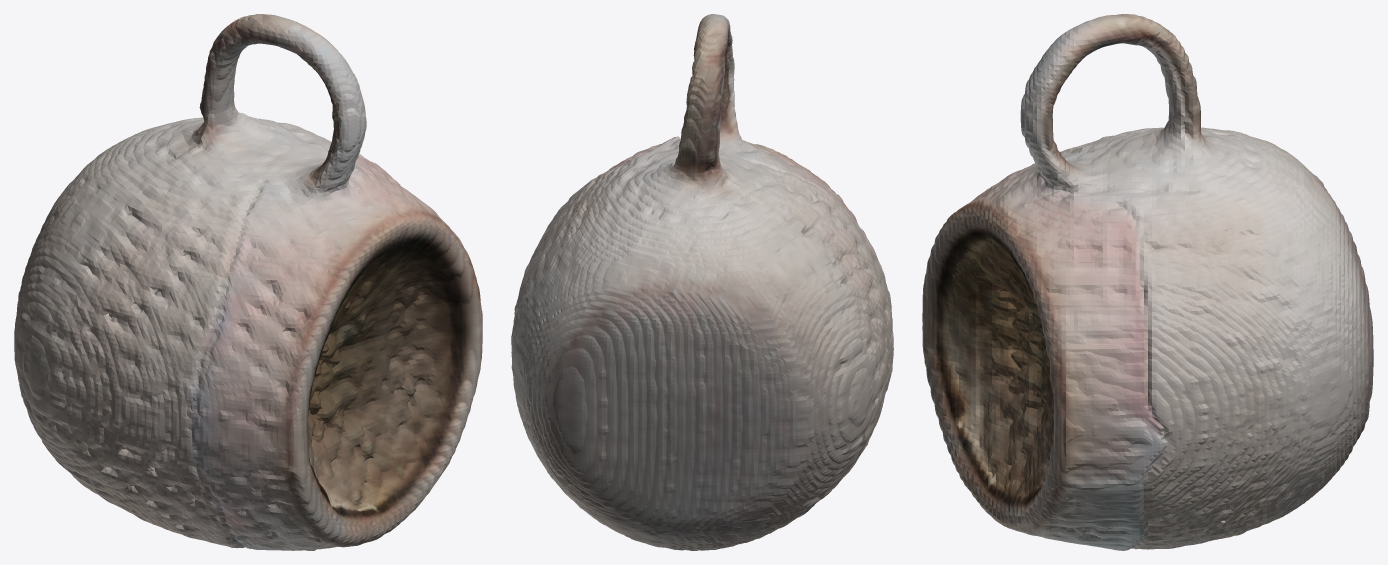
3 views of the same model, side by side, from view 1: azimuth 30°, elevation 25°; view 2: azimuth 150°, elevation 25°; view 3: azimuth 270°, elevation 25° (orthographic). The views are drawn at different scales.
Visible parts, largest first — view 1: geometry_0; view 2: geometry_0; view 3: geometry_0.
Part boxes in pixels (x1,y1,x2,y2): geometry_0: (14,14,482,550); geometry_0: (511,14,893,550); geometry_0: (922,14,1373,550).
Size of the model in its own units: 0.7324 by 0.9479 by 0.7497.
